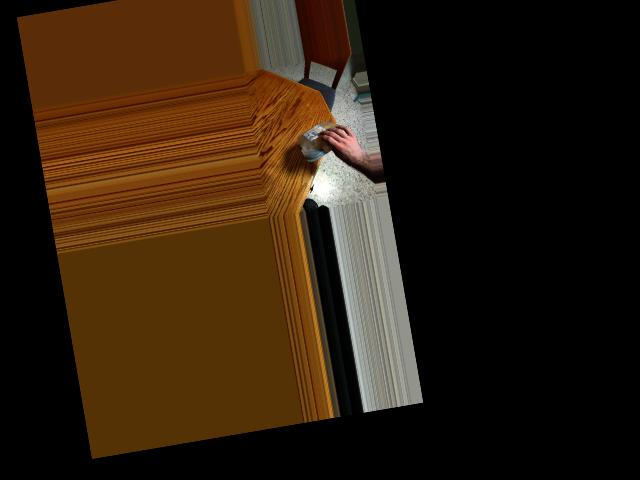cheese: (300, 122, 342, 157)
